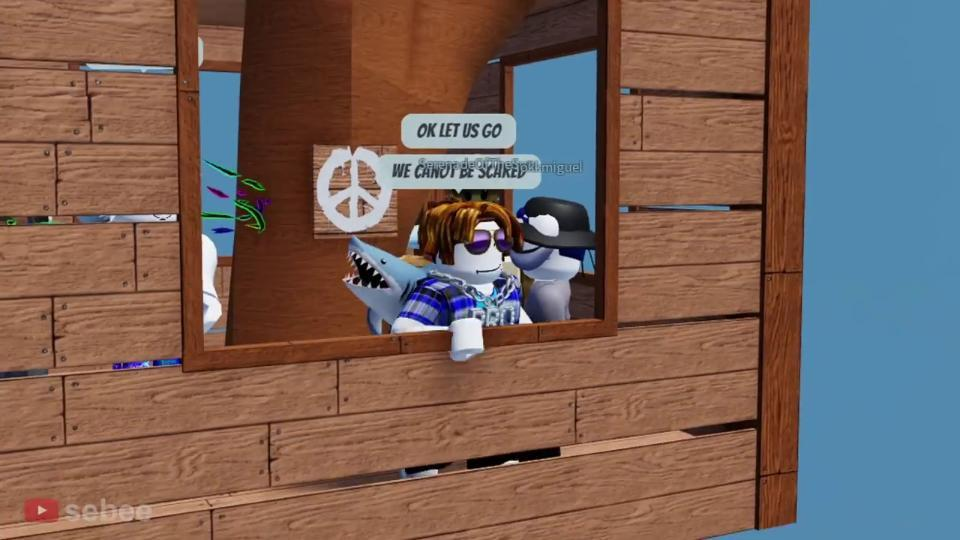Character: (393, 199, 534, 360), (519, 198, 598, 322)
